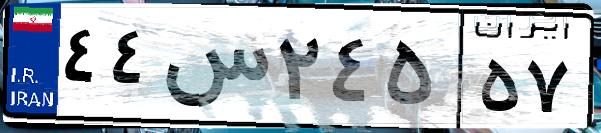2: (270, 28, 330, 110)
4: (330, 28, 385, 110), (57, 26, 110, 100), (110, 28, 158, 98)
5: (385, 28, 445, 110), (475, 38, 525, 113)
7: (525, 38, 570, 115)
س: (158, 20, 270, 120)
